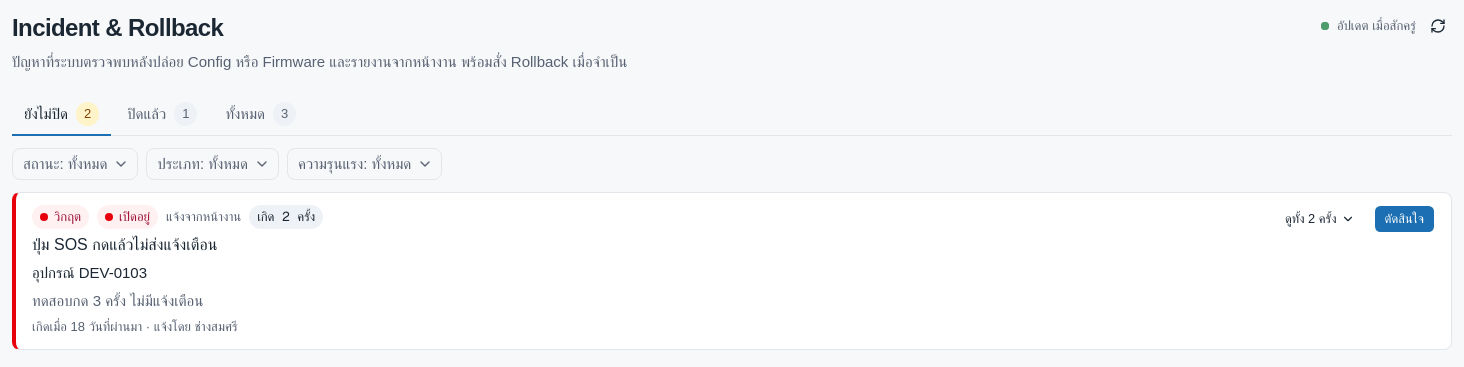
Test: IncidentsView: แท็บ ยังไม่ปิด / ปิดแล้ว / ทั้งหมด › ตัวกรองประเภท/ความรุนแรงมีผลกับจำนวนบนแท็บด้วย
The width and height of the screenshot is (1464, 367).
Click the dropdown labelled "ความรุนแรง: ทั้งหมด ▼".
click(365, 164)  # box [287,148,442,180]
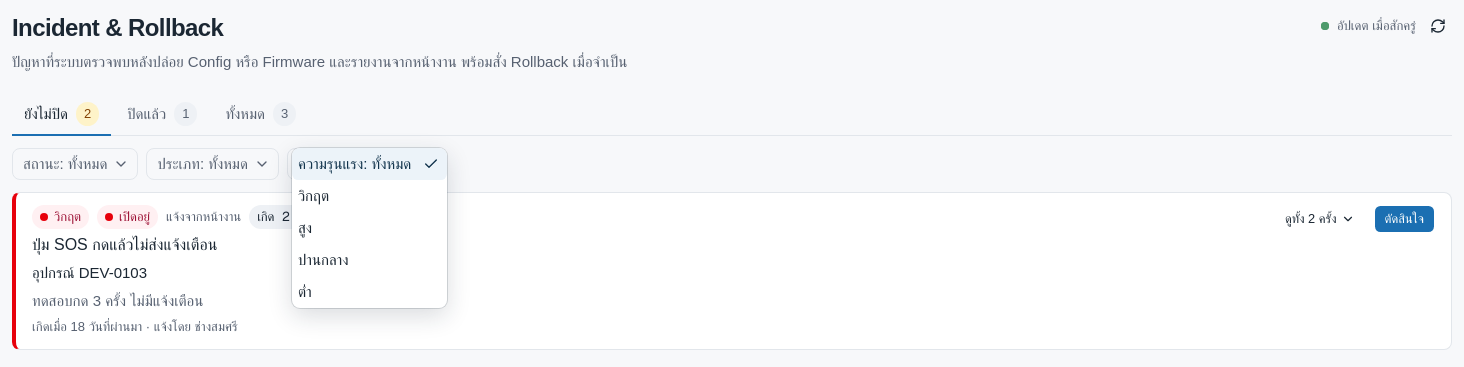
Click the option "ต่ำ".
click(305, 292)  # box [298,283,312,300]
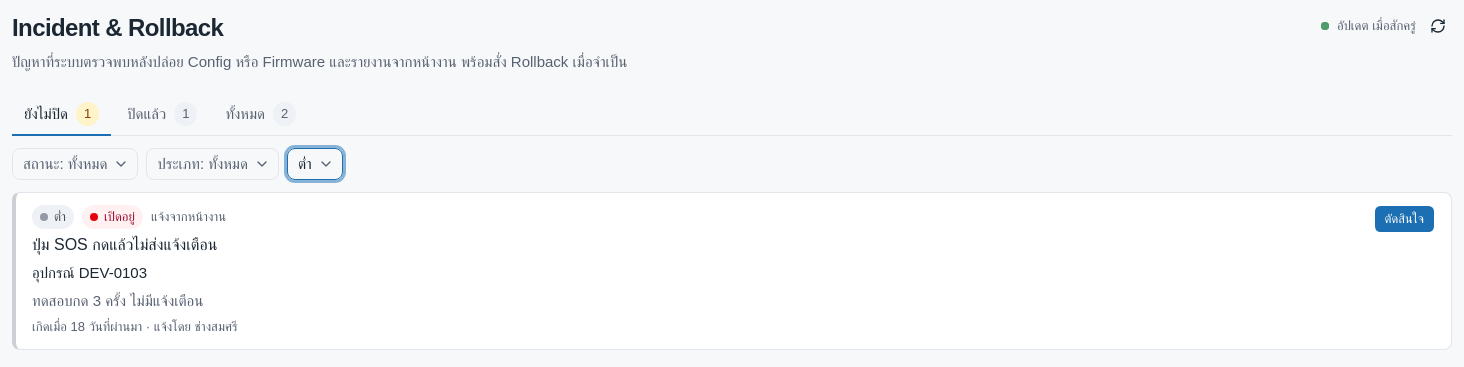
Expected: the button "ปิดแล้ว 1" is shown, [115,94,209,136]
Expected: the button "ยังไม่ปิด 1" is shown, [12,94,111,136]
Expected: the button "ทั้งหมด 2" is shown, [213,94,308,136]
